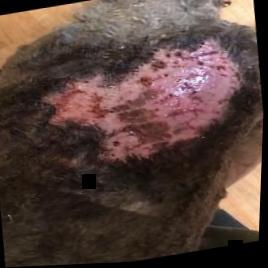skin_lesions: (30, 29, 261, 182)
